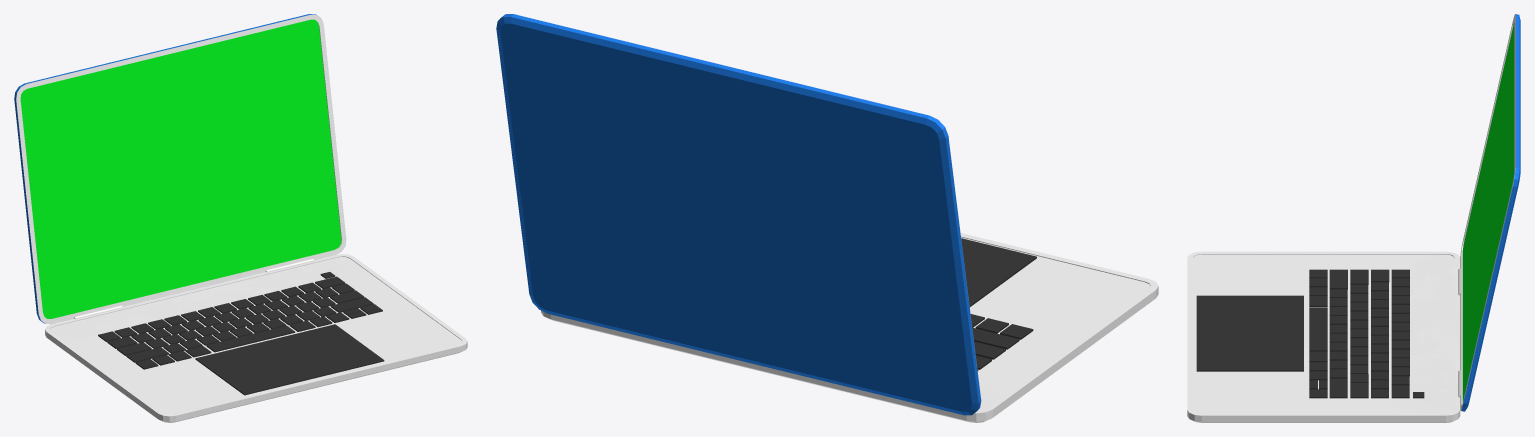
3 views of the same model, side by side, from view 1: azimuth 30°, elevation 25°; view 2: azimuth 150°, elevation 25°; view 3: azimuth 270°, elevation 25° (orthographic). The views are drawn at different scales.
Parts seen in each view (by area): view 1: Screen, Chassis; view 2: Screen, Chassis; view 3: Chassis, Screen.
Part boxes in pixels (bbox=[...]): Screen: bbox=[14, 14, 346, 324]; Chassis: bbox=[45, 254, 467, 422]; Screen: bbox=[496, 14, 981, 415]; Chassis: bbox=[541, 233, 1158, 422]; Chassis: bbox=[1187, 251, 1460, 422]; Screen: bbox=[1458, 14, 1520, 411].
Bounding box in the file's own units: 13.75 × 9.82 × 11.8.
2 materials, 2 textured.
